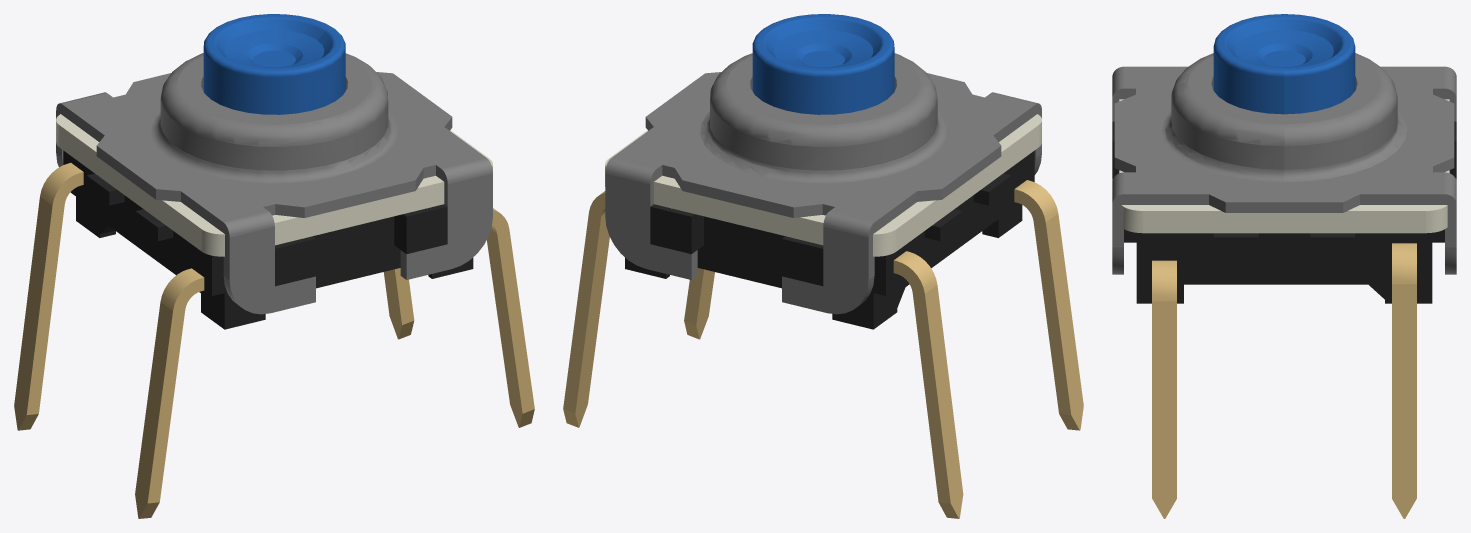
File: kc-sw_tactile_straight_ksa0axx1lftr.glb
The picture shows the model from 3 angles, left to right: view 1: azimuth 30°, elevation 25°; view 2: azimuth 150°, elevation 25°; view 3: azimuth 270°, elevation 25°; orthographic projection.
Parts seen in each view (by area): view 1: 0.25_0.25_0.25_0, 0.75_0.5_0.25_0.9, 0_0_0_0, 0_0.16666666666666666_0.5_0, 0.75_0.75_0.6666666666666666_0; view 2: 0.25_0.25_0.25_0, 0.75_0.5_0.25_0.9, 0_0_0_0, 0_0.16666666666666666_0.5_0, 0.75_0.75_0.6666666666666666_0; view 3: 0.25_0.25_0.25_0, 0_0_0_0, 0.75_0.5_0.25_0.9, 0_0.16666666666666666_0.5_0, 0.75_0.75_0.6666666666666666_0.
Part boxes in pixels (x1,y1,x2,y2): 0.25_0.25_0.25_0: (56, 53, 492, 314); 0.75_0.5_0.25_0.9: (14, 163, 534, 518); 0_0_0_0: (63, 150, 473, 329); 0_0.16666666666666666_0.5_0: (203, 14, 345, 114); 0.75_0.75_0.6666666666666666_0: (56, 114, 492, 256); 0.25_0.25_0.25_0: (605, 53, 1041, 314); 0.75_0.5_0.25_0.9: (563, 180, 1083, 518); 0_0_0_0: (625, 150, 1034, 329); 0_0.16666666666666666_0.5_0: (752, 14, 894, 114); 0.75_0.75_0.6666666666666666_0: (605, 114, 1041, 256); 0.25_0.25_0.25_0: (1112, 53, 1456, 274); 0_0_0_0: (1112, 121, 1456, 303); 0.75_0.5_0.25_0.9: (1152, 243, 1416, 518); 0_0.16666666666666666_0.5_0: (1213, 14, 1355, 114); 0.75_0.75_0.6666666666666666_0: (1119, 99, 1449, 233).
Bounding box in the file's own units: 0.9537 × 0.8961 × 0.73.
